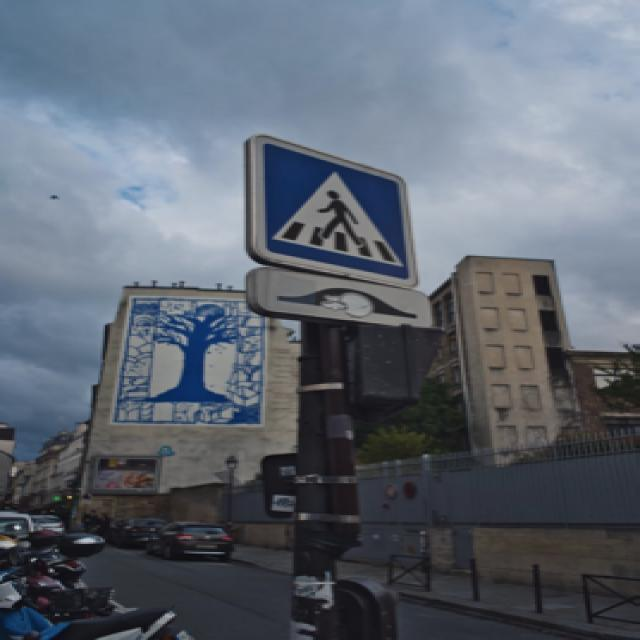crosswalk_sign: (254, 137, 415, 284)
